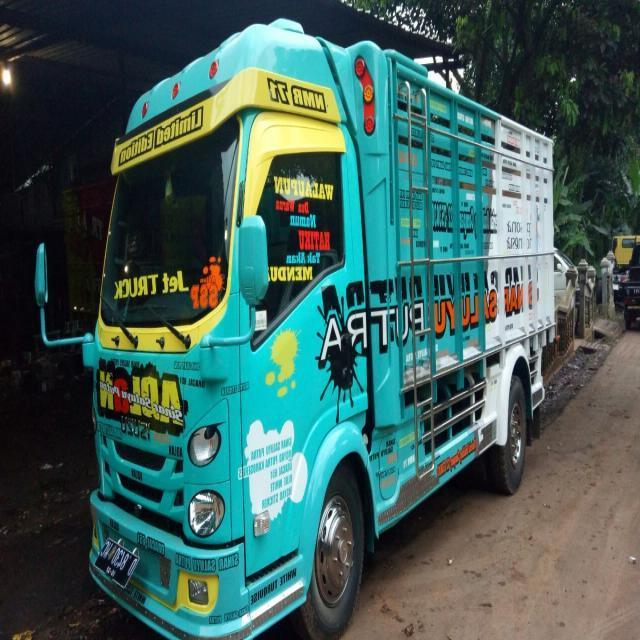truck: (36, 10, 558, 640)
